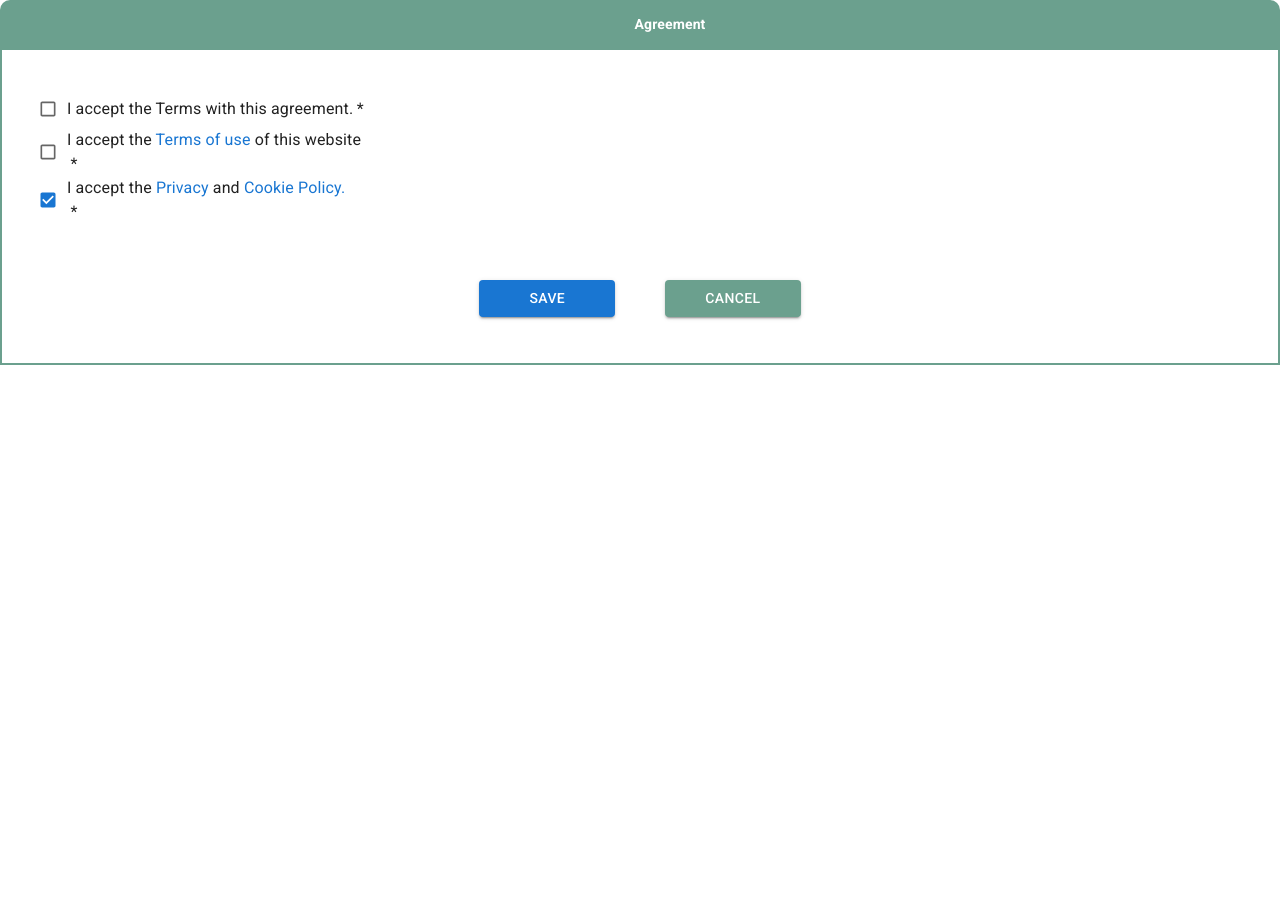
Test: Agreement Page › Click and submit agreement page
Check: the form with test id "agreement-form" is shown, box [0, 0, 1279, 394]
Click the checkbox with test id "patient_consent" at x=196, y=152, box [29, 128, 364, 176]
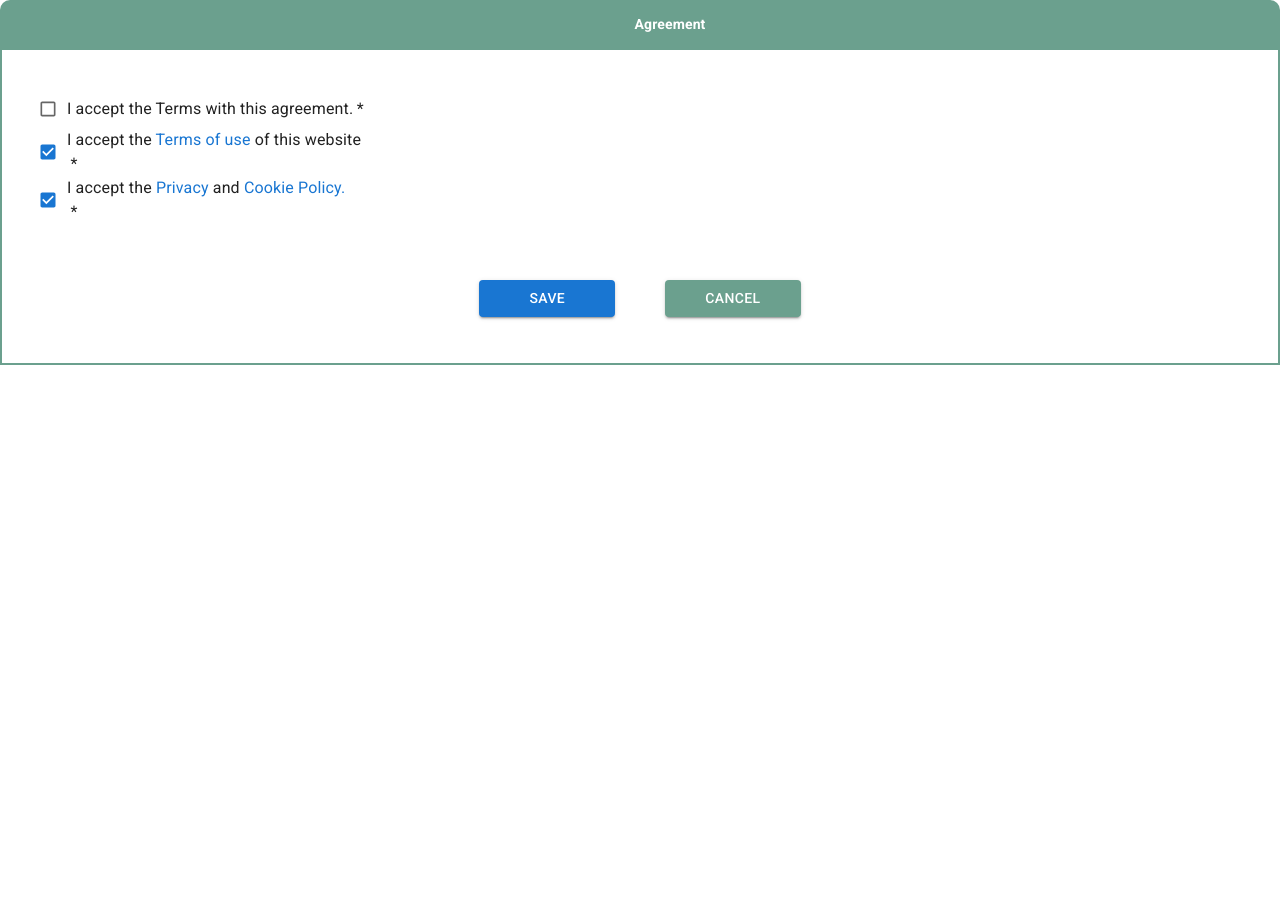
Check: the button with test id "editCancleAgreementButton" is shown, box [665, 280, 801, 316]
Submit the form from the button with test id "agreementSubmitButton", box [479, 280, 615, 316]
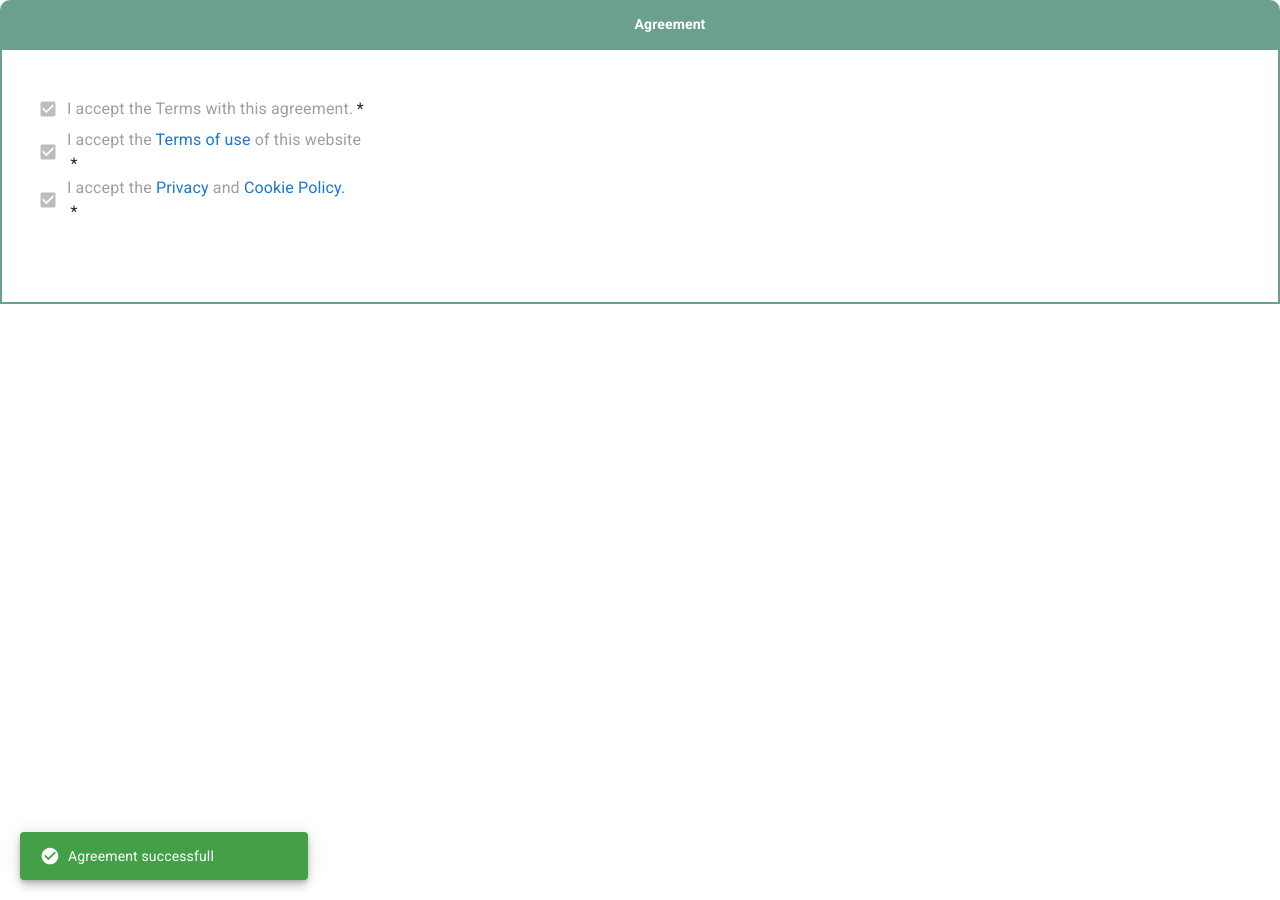
Check: the text "Agreement successfull" is shown, box [40, 846, 214, 866]
